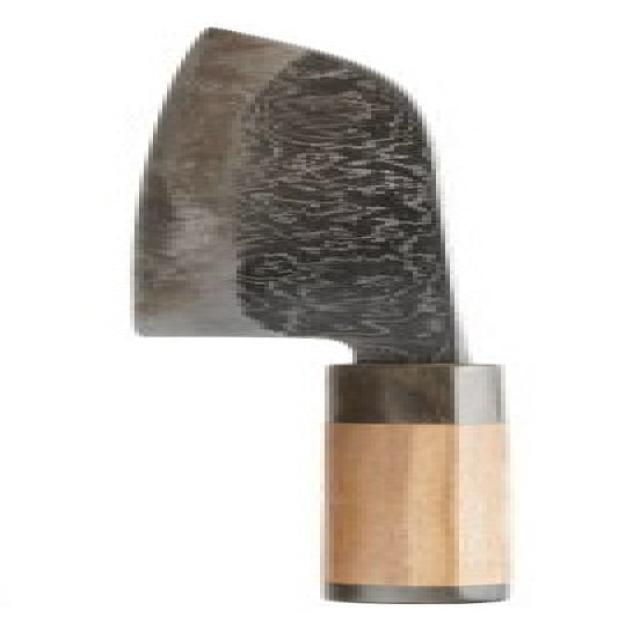knife: (101, 24, 536, 606)
